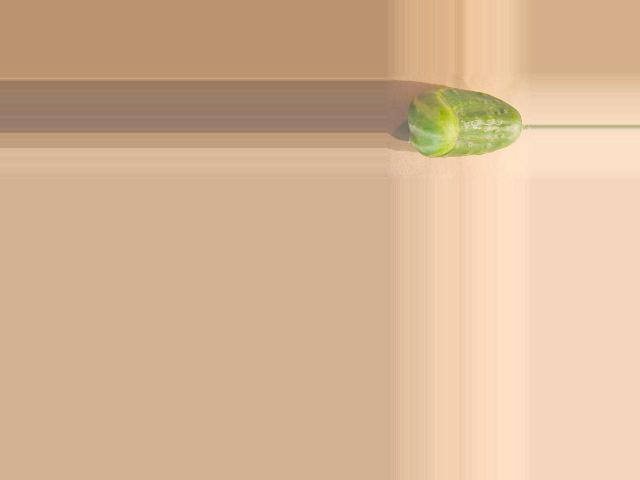cucumber: (408, 88, 522, 158)
